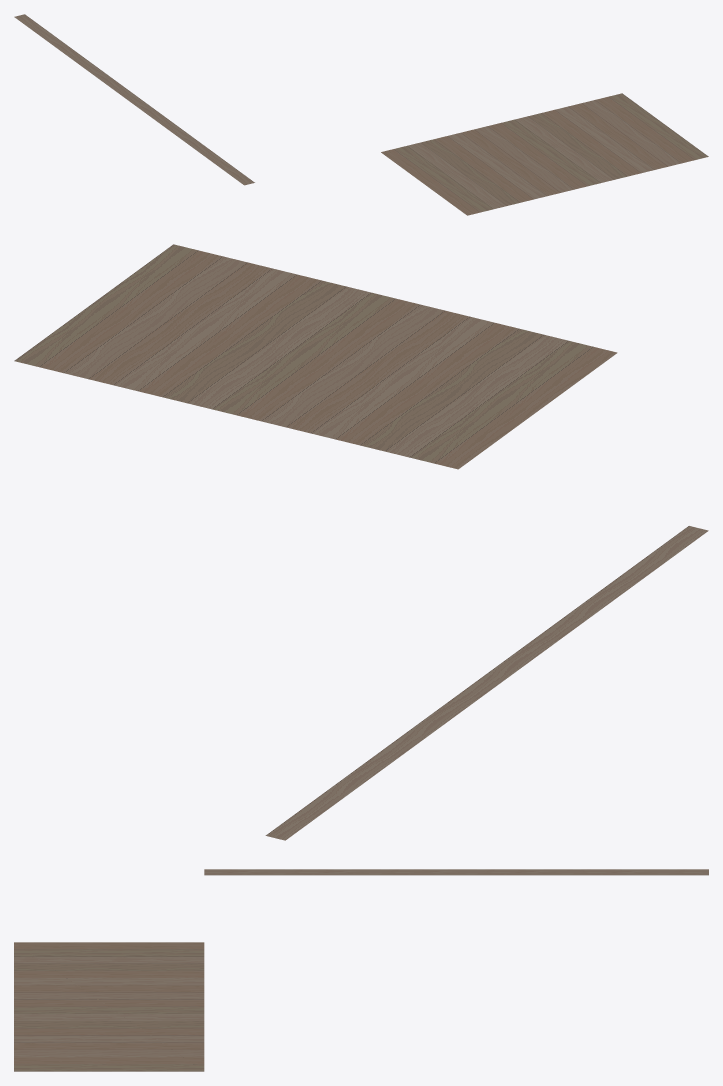
The model's file is kd_stage_135c43_4_21_bounded.glb.
The picture shows the model from 3 angles, top to bottom: view 1: azimuth 30°, elevation 25°; view 2: azimuth 150°, elevation 25°; view 3: azimuth 270°, elevation 25°; orthographic projection. The views are drawn at different scales.
Visible parts, largest first — view 1: kd_stage_135c43_4_21_bounded; view 2: kd_stage_135c43_4_21_bounded; view 3: kd_stage_135c43_4_21_bounded.
Boxes of the visible parts, bbox=[...] form: kd_stage_135c43_4_21_bounded: bbox=[14, 14, 708, 215]; kd_stage_135c43_4_21_bounded: bbox=[14, 244, 708, 840]; kd_stage_135c43_4_21_bounded: bbox=[14, 869, 708, 1071].
Bounding box in the file's own units: 3.6 × 0.000136 × 5.23.
Materials: 1 (1 with a texture image).
